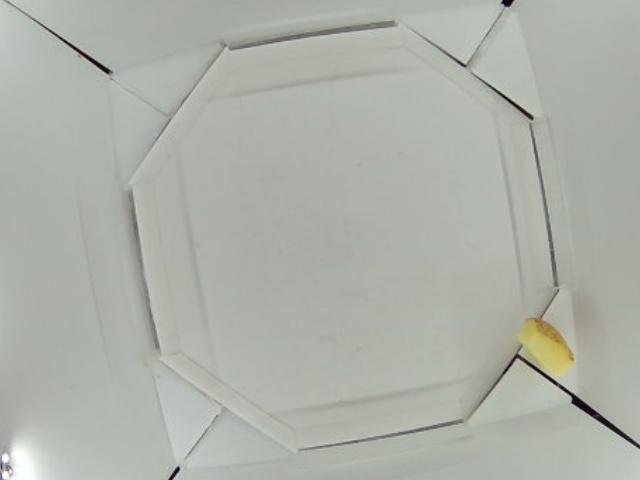Potato: (516, 317, 578, 375)
